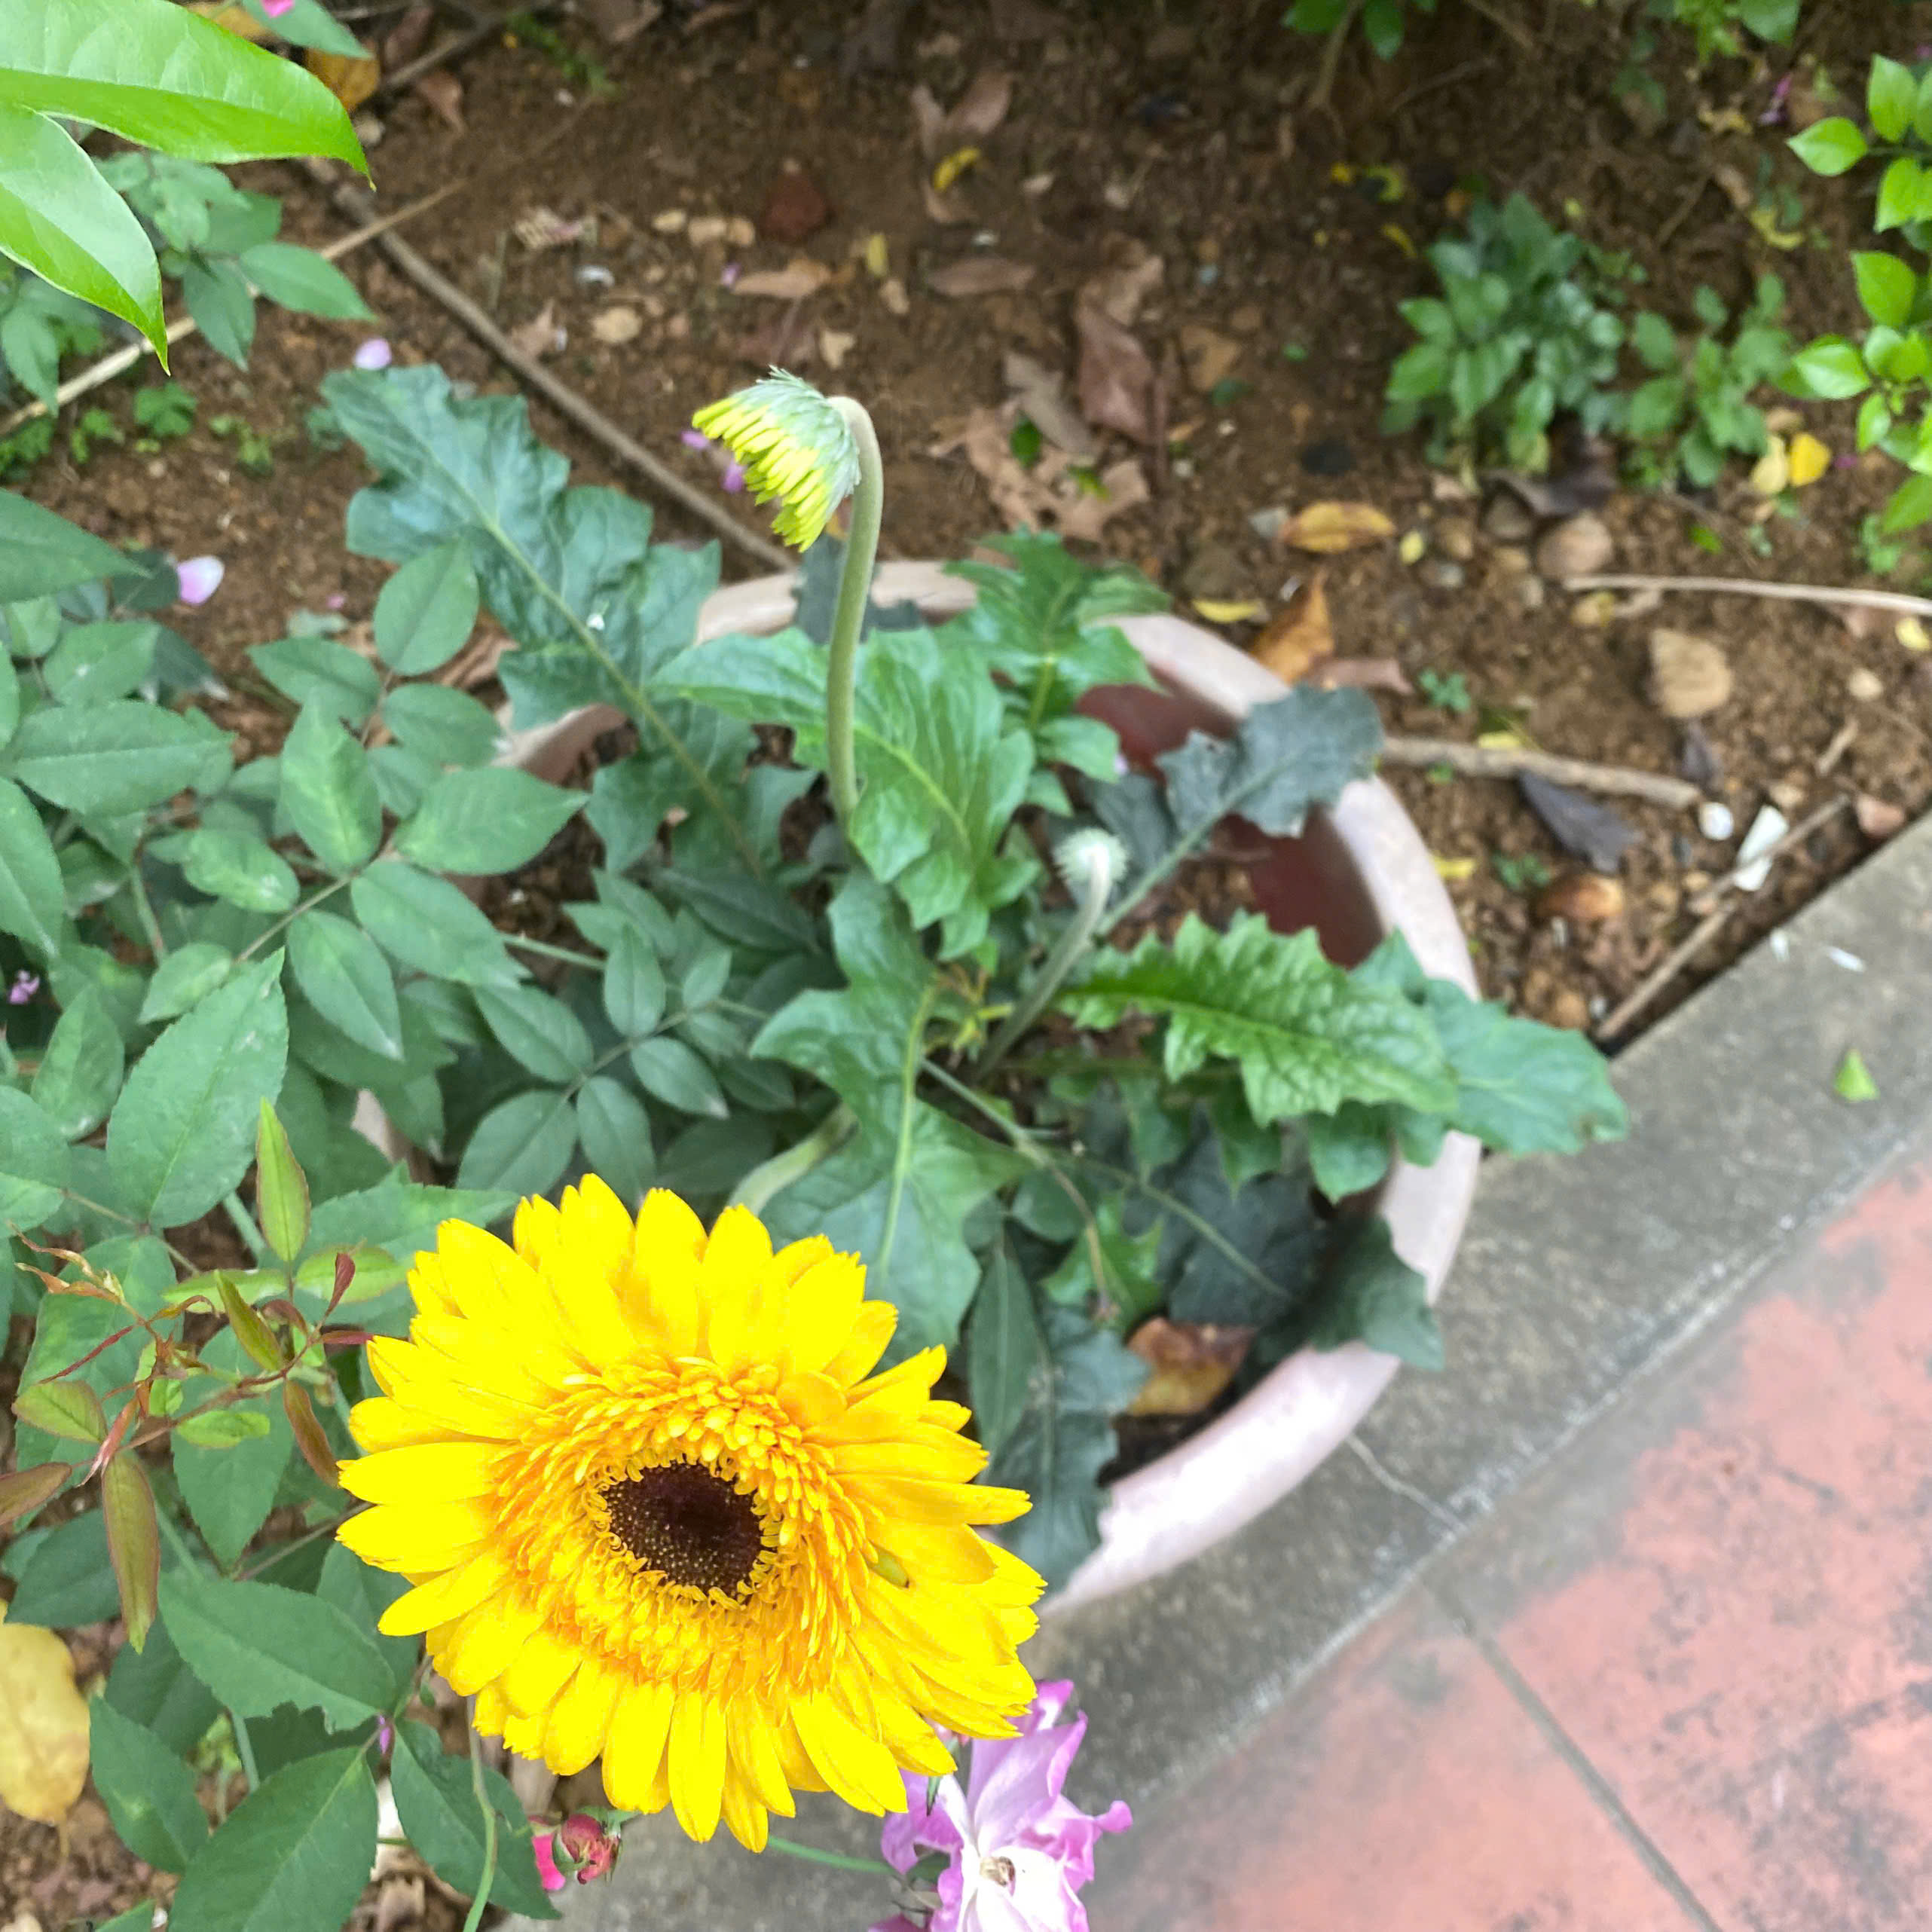hoa_huong_duong: (242, 377, 1568, 1902)
